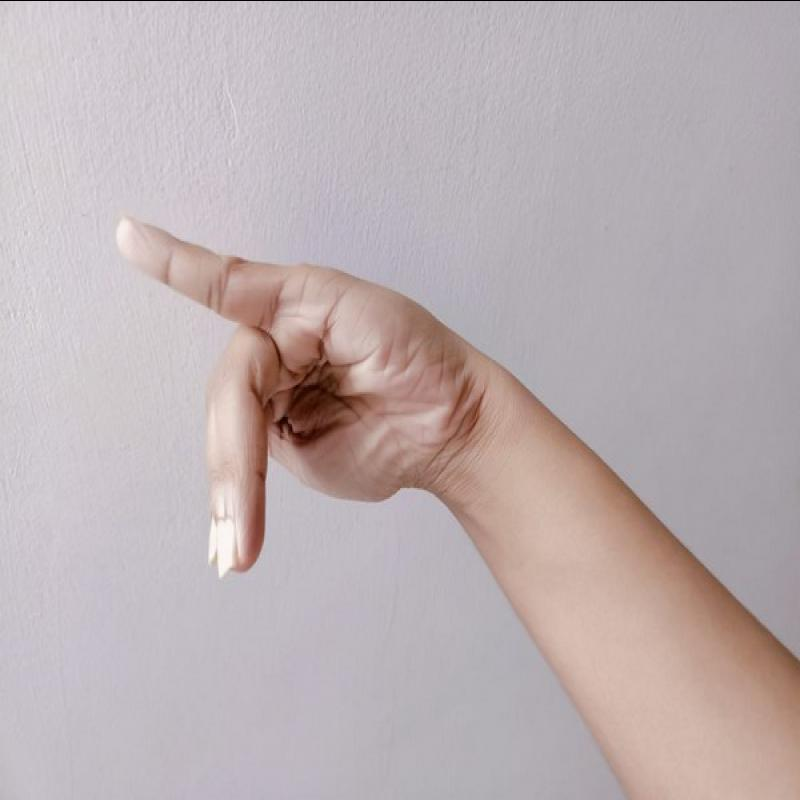Kartharee Mukham: (93, 196, 491, 586)
